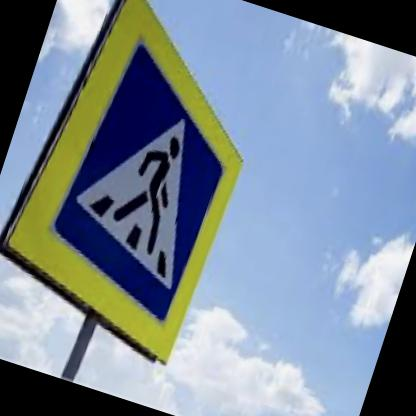crosswalk: (35, 35, 255, 328)
